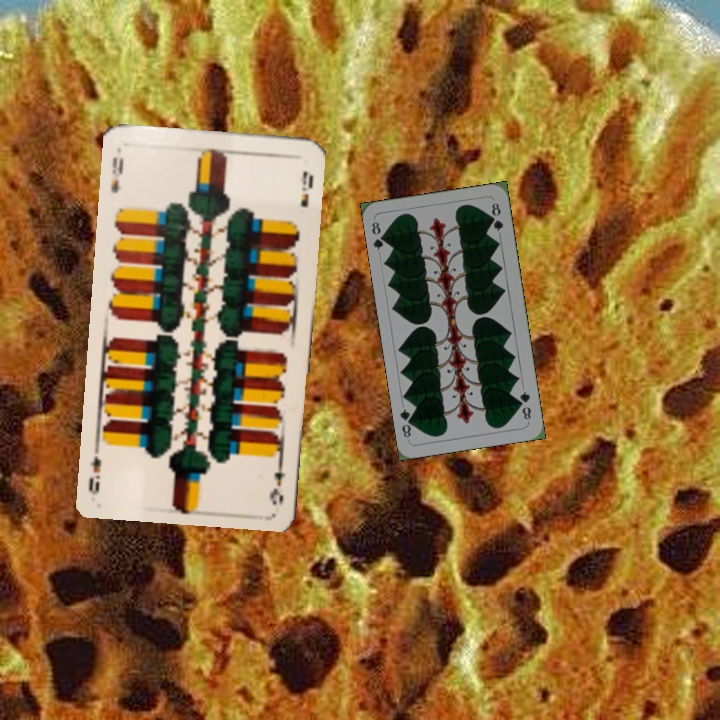E9: (267, 449, 288, 508), (106, 153, 126, 196)
G8: (367, 218, 389, 253), (515, 387, 534, 423)
